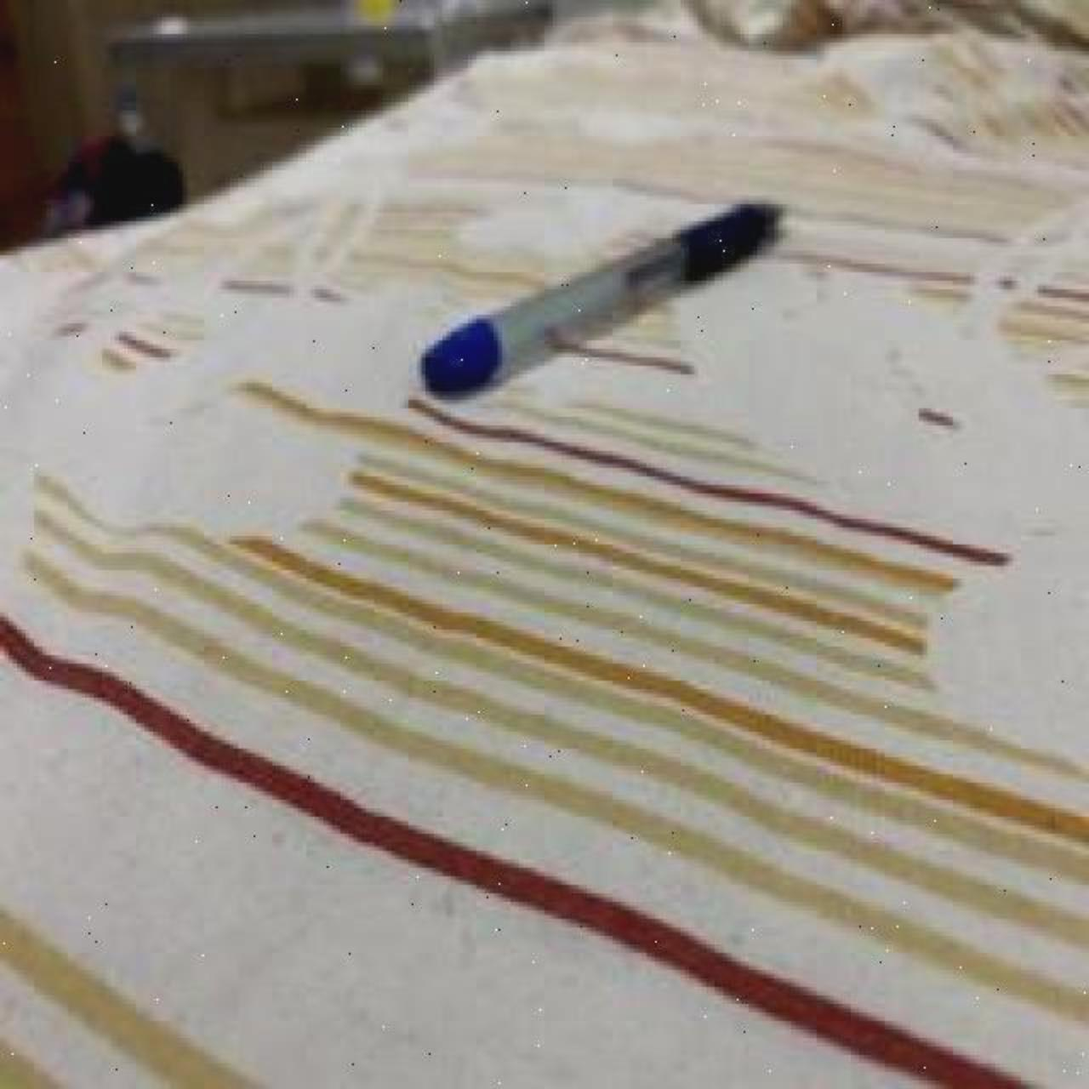pen: (417, 187, 783, 400)
